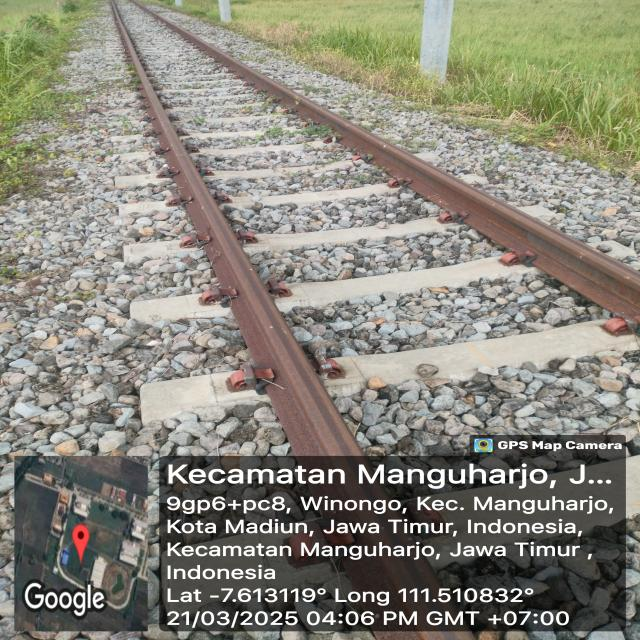rail-detection: (130, 0, 640, 315), (111, 0, 361, 455)
